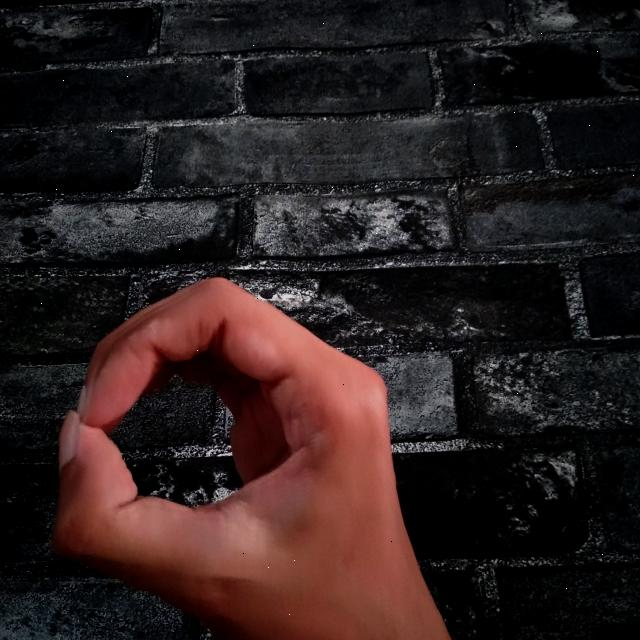O: (49, 266, 455, 640)
